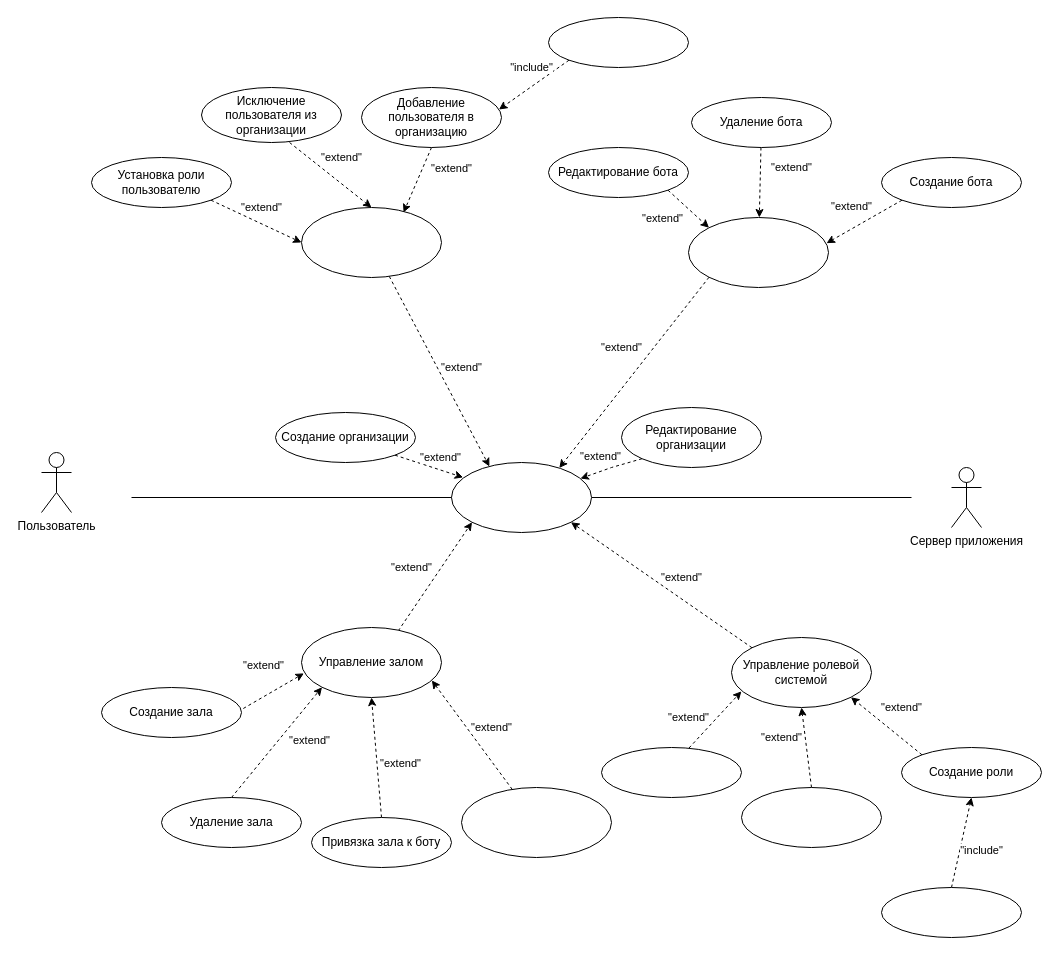
Image size: 1059x955. Some labels were removed from this diagram. The shapes that lost their labels are listed below. From the top down, each one's centre as x and y in pixels, then its label:
At (618,42): "Создание ссылки-приглашения".
At (371,242): "Управление пользователями".
At (758,252): "Управление ботом".
At (521,497): "Управление организацией".
At (671,772): "Удаление роли".
At (536,822): "Составление расписания тренировок".
At (811,817): "Установка полномочий для роли".
At (951,912): "Ввод названия".
